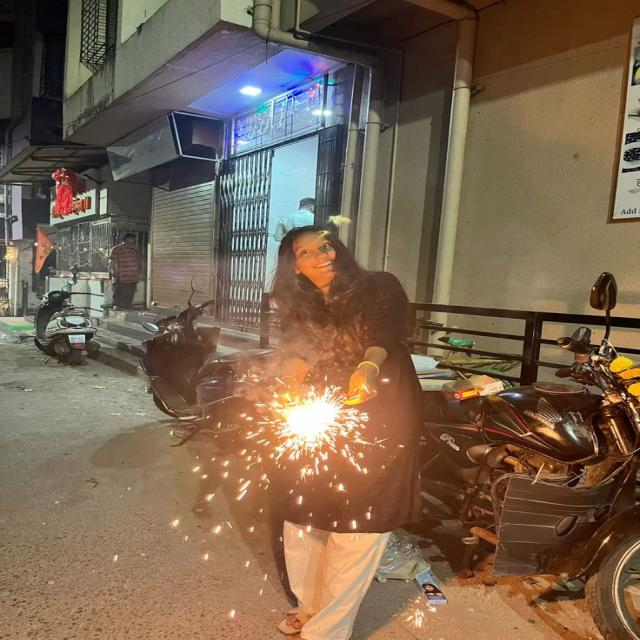fire: (275, 398, 339, 447)
